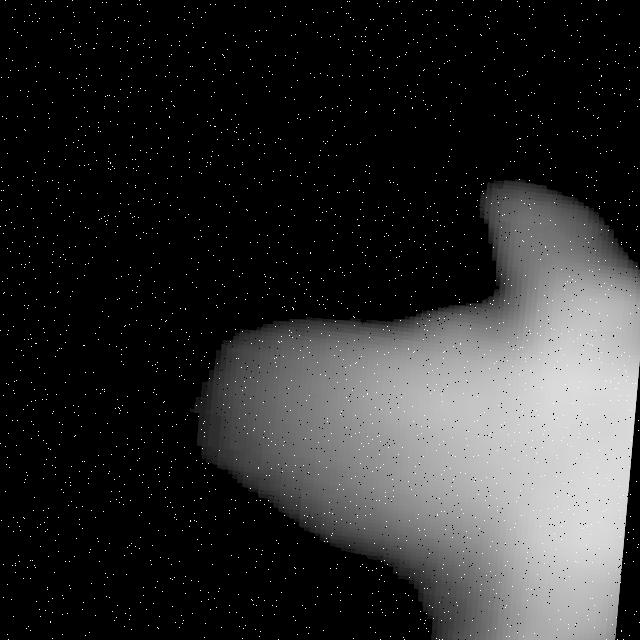person: (142, 149, 640, 640)
